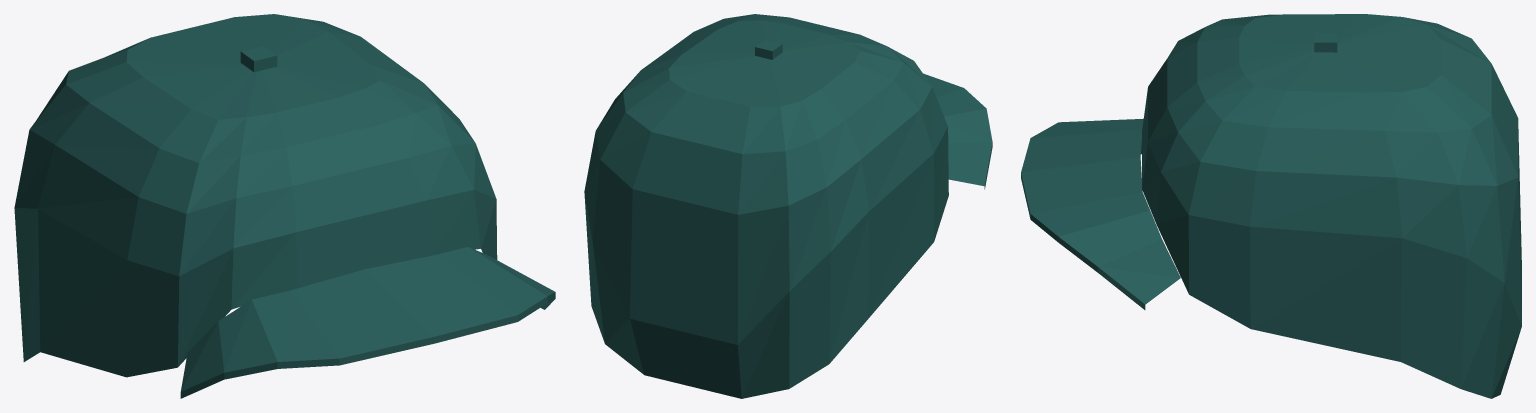
Rendered from headwear-ballcap.high.6e27ed94.glb.
3 views of the same model, side by side, from view 1: azimuth 30°, elevation 25°; view 2: azimuth 150°, elevation 25°; view 3: azimuth 270°, elevation 25° (orthographic). The views are drawn at different scales.
Visible parts, largest first — view 1: headwear-ballcap; view 2: headwear-ballcap; view 3: headwear-ballcap.
Boxes of the visible parts, x1,y1,x2,y2 form: headwear-ballcap: [14, 14, 555, 398]; headwear-ballcap: [584, 14, 992, 398]; headwear-ballcap: [1021, 14, 1521, 398].
Bounding box in the file's own units: 0.2201 × 0.219 × 0.3015.
